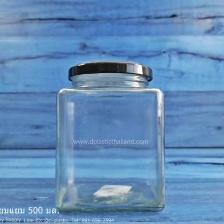glass: (44, 56, 175, 215)
